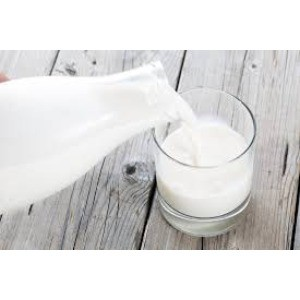milk_brain food: (5, 76, 132, 153), (157, 133, 258, 224)
